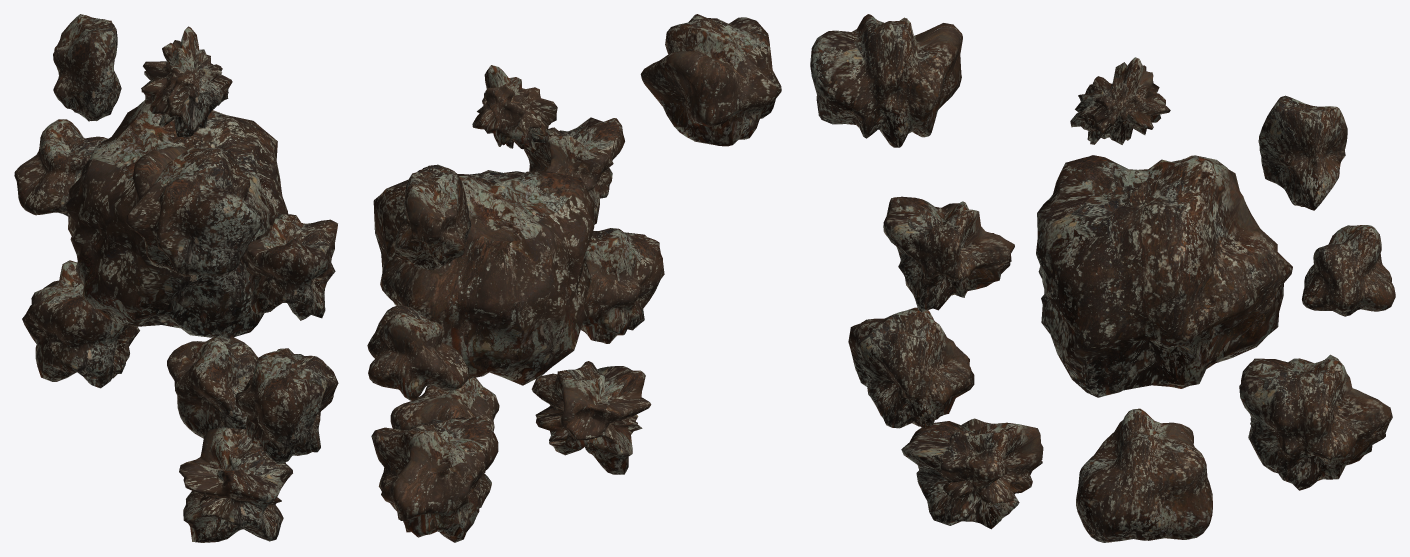
The model's file is Realistic Stone Pack(lowpoly).fbx.
The picture shows the model from 3 angles, left to right: view 1: azimuth 30°, elevation 25°; view 2: azimuth 150°, elevation 25°; view 3: azimuth 270°, elevation 25°; orthographic projection. The views are drawn at different scales.
Parts seen in each view (by area): view 1: Cube.003, Cube.007, Rock10, Cube.004, Cube.005, Cube.006, Rock09, Cube, Cube.002, Cube.001; view 2: Cube.003, Cube.007, Cube.004, Rock10, Cube.005, Cube.001, Cube.002, Cube.006, Cube, Rock09; view 3: Cube.003, Cube.007, Cube.004, Rock09, Rock10, Cube.005, Cube.006, Cube.002, Cube.001, Cube.
Boxes of the visible parts, x1,y1,x2,y2 form: Cube.003: [64, 100, 288, 338]; Cube.007: [125, 146, 264, 276]; Rock10: [179, 427, 292, 542]; Cube.004: [22, 260, 139, 388]; Cube.005: [235, 348, 338, 464]; Cube.006: [241, 214, 337, 320]; Rock09: [167, 337, 257, 438]; Cube: [141, 26, 232, 137]; Cube.002: [53, 14, 121, 121]; Cube.001: [14, 119, 107, 216]; Cube.003: [373, 170, 594, 385]; Cube.007: [640, 14, 781, 146]; Cube.004: [371, 416, 498, 542]; Rock10: [531, 361, 651, 474]; Cube.005: [581, 228, 664, 343]; Cube.001: [367, 305, 468, 400]; Cube.002: [395, 164, 471, 270]; Cube.006: [523, 117, 624, 224]; Cube: [472, 65, 557, 153]; Rock09: [390, 377, 499, 431]; Cube.003: [1036, 155, 1292, 397]; Cube.007: [810, 14, 962, 147]; Cube.004: [1239, 354, 1392, 490]; Rock09: [1076, 408, 1212, 542]; Rock10: [901, 418, 1043, 529]; Cube.005: [848, 307, 974, 428]; Cube.006: [883, 196, 1014, 312]; Cube.002: [1258, 95, 1347, 210]; Cube.001: [1302, 225, 1395, 316]; Cube: [1070, 57, 1170, 144].
Size of the model in its own units: 32.91 by 50.7 by 56.38.
Materials: 1 (1 with a texture image).
